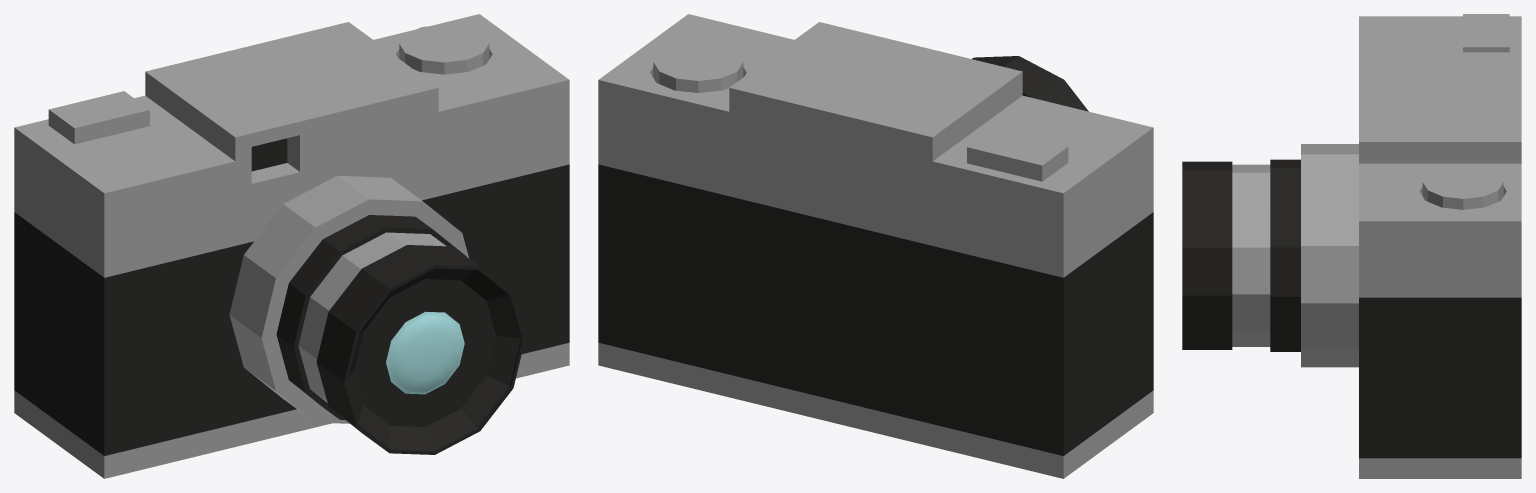
Rendered from Camera.glb.
The picture shows the model from 3 angles, left to right: view 1: azimuth 30°, elevation 25°; view 2: azimuth 150°, elevation 25°; view 3: azimuth 270°, elevation 25°; orthographic projection. The views are drawn at different scales.
Visible parts, largest first — view 1: CameraMesh; view 2: CameraMesh; view 3: CameraMesh.
Part boxes in pixels (x1,y1,x2,y2): CameraMesh: (14, 14, 569, 478); CameraMesh: (598, 14, 1153, 478); CameraMesh: (1182, 14, 1521, 478).
Size of the model in its own units: 3.41 by 2.17 by 2.39.
